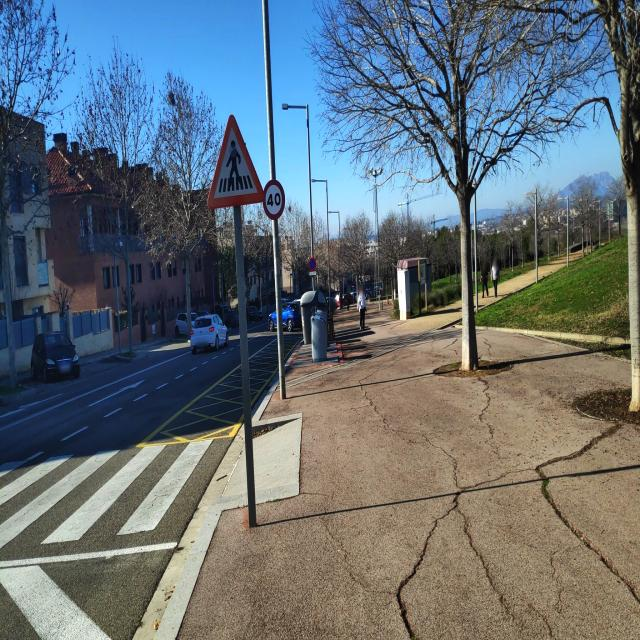car: (30, 329, 81, 384), (190, 313, 229, 352), (174, 311, 198, 337), (222, 304, 240, 329), (247, 302, 263, 322), (339, 290, 350, 310)
